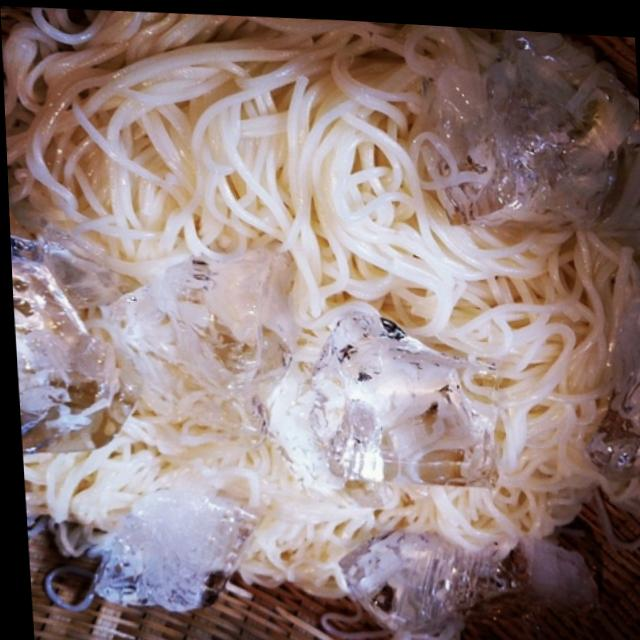面条主食: (9, 26, 640, 640)
